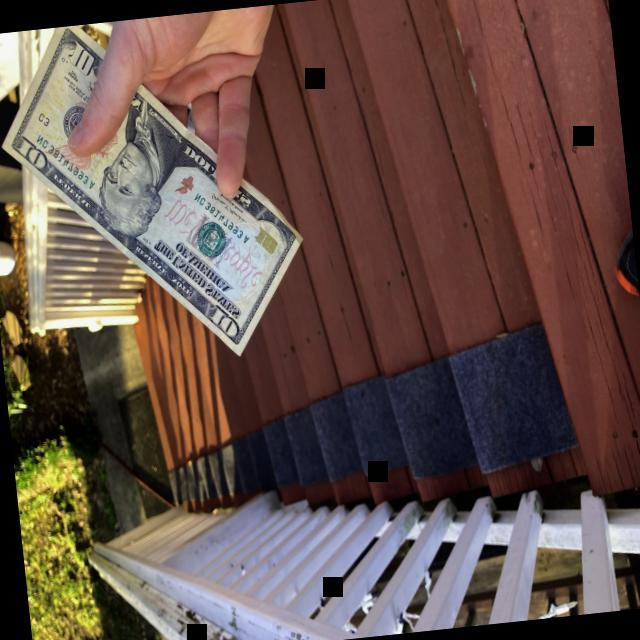ten: (2, 24, 305, 355)
